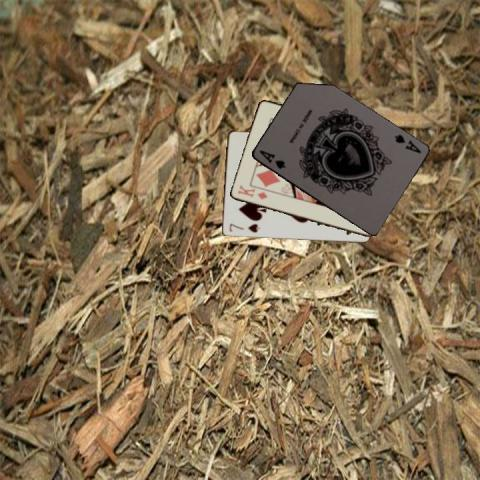7s: (226, 221, 261, 234)
As: (391, 131, 423, 155), (256, 147, 287, 171)
Kd: (235, 182, 269, 201)
